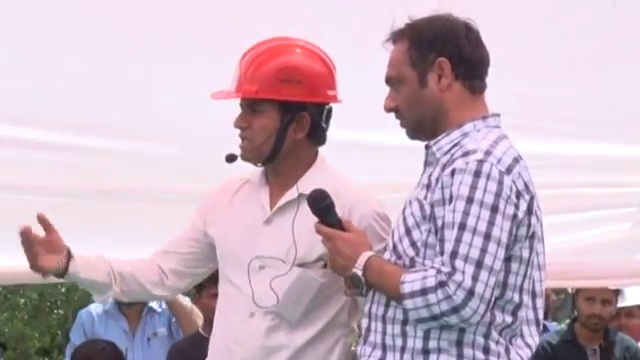helmet: (213, 36, 340, 113)
helmet_off: (381, 19, 497, 144), (572, 287, 623, 337), (191, 271, 220, 336), (611, 298, 640, 339), (547, 287, 578, 319)
helmet_on: (210, 37, 339, 169)
person: (17, 31, 398, 359), (315, 22, 551, 359), (64, 282, 205, 358), (528, 288, 640, 360), (159, 270, 225, 359)
